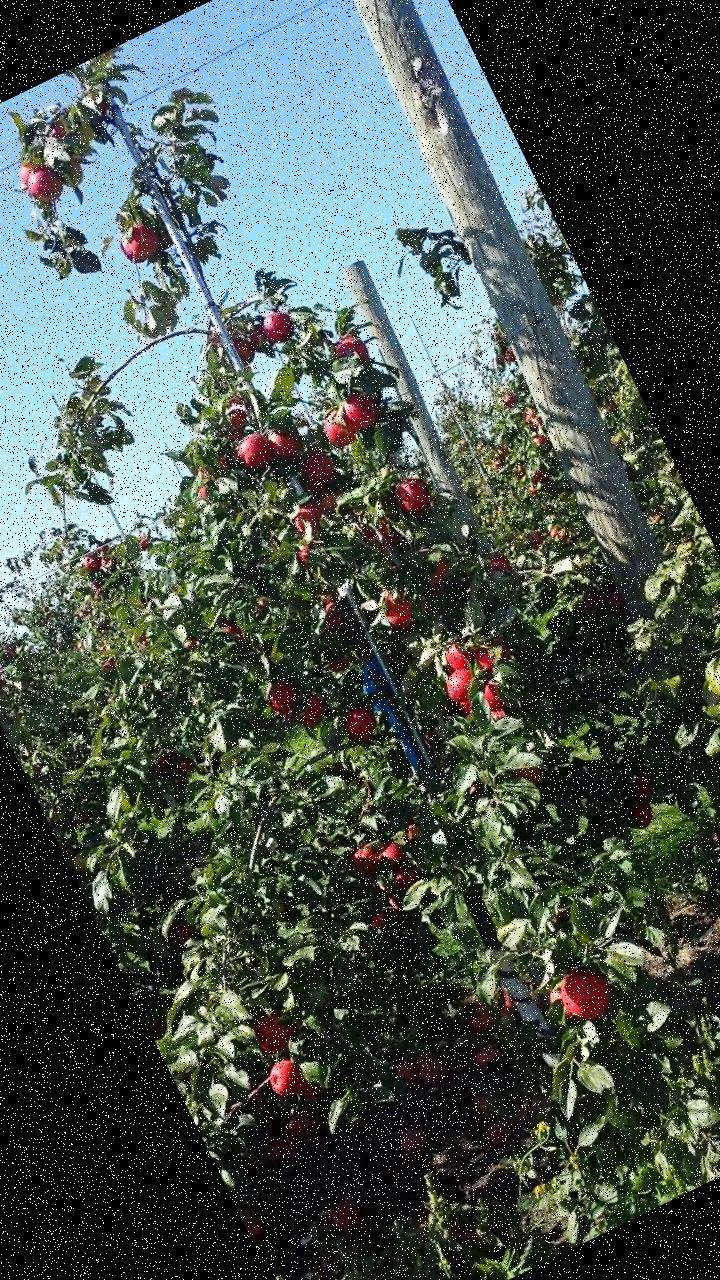Apple: (542, 960, 618, 1035), (247, 998, 307, 1060), (290, 445, 340, 497), (261, 1053, 311, 1103), (117, 220, 164, 268), (231, 428, 275, 476), (318, 404, 362, 452), (152, 742, 200, 786), (440, 660, 485, 705), (390, 472, 434, 518), (378, 586, 420, 634), (22, 162, 66, 207), (338, 388, 382, 432), (337, 701, 380, 746), (364, 891, 407, 932), (420, 556, 461, 598), (264, 422, 304, 465), (260, 306, 300, 348), (287, 496, 329, 536), (470, 636, 514, 674), (262, 678, 303, 718), (329, 332, 369, 368), (344, 841, 384, 877), (442, 636, 479, 674), (366, 517, 403, 552), (314, 596, 348, 634), (13, 154, 48, 188), (294, 695, 330, 728), (475, 676, 507, 713), (57, 158, 90, 192), (373, 837, 408, 868), (627, 796, 660, 828), (515, 759, 548, 790), (578, 583, 608, 615), (484, 552, 515, 582), (224, 394, 253, 426), (391, 861, 423, 890), (247, 319, 275, 352), (230, 331, 257, 365), (316, 489, 346, 518), (219, 618, 246, 650), (168, 920, 197, 947), (632, 770, 658, 800), (74, 119, 101, 147), (600, 584, 626, 612), (298, 1075, 322, 1101), (326, 654, 353, 677), (399, 820, 424, 844), (224, 419, 248, 442), (487, 702, 512, 722), (214, 449, 233, 474), (47, 120, 67, 141), (294, 545, 314, 566), (194, 484, 214, 504), (457, 696, 475, 718), (181, 633, 202, 651)
